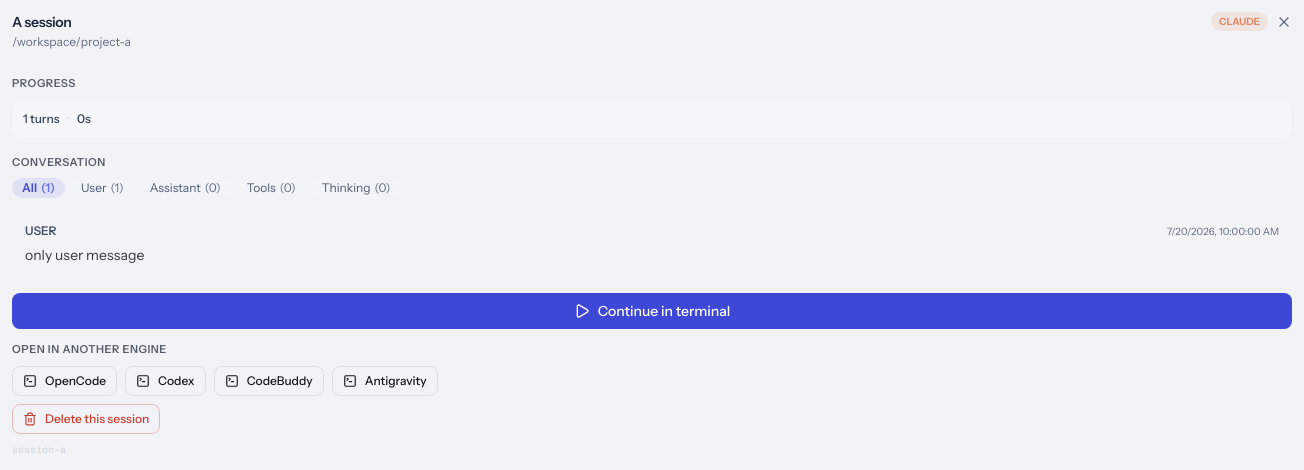
Test case: SessionDetailPanel message filter › displays no matching messages when filtered results are empty
The width and height of the screenshot is (1304, 470).
Click the button "Tools (0)" at (271, 188), box [237,178,306,198]
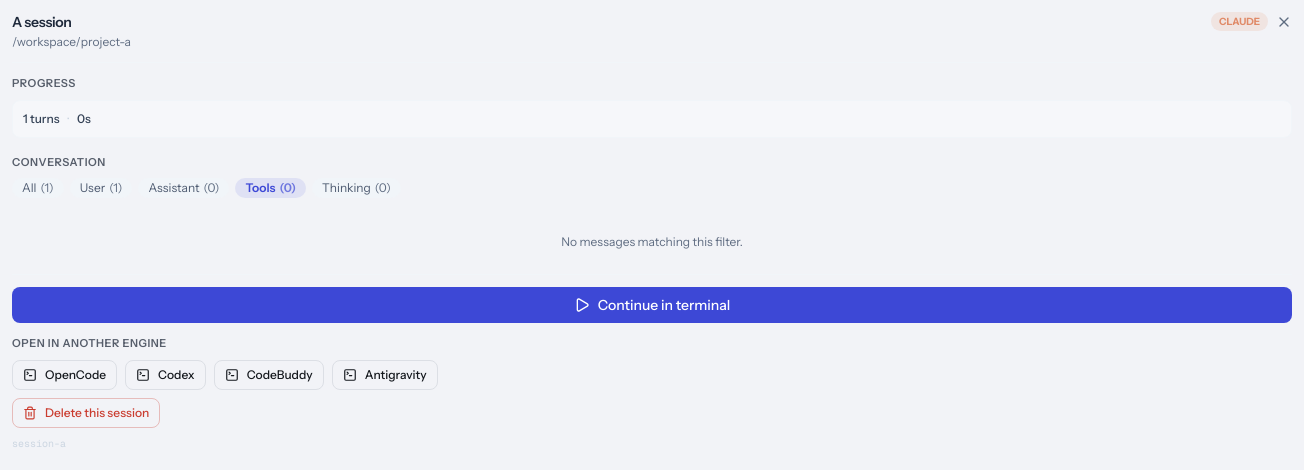
expect the text "No messages matching this filter." is shown: met, box [561,234,743,249]
expect the text "only user message" is gone: met
